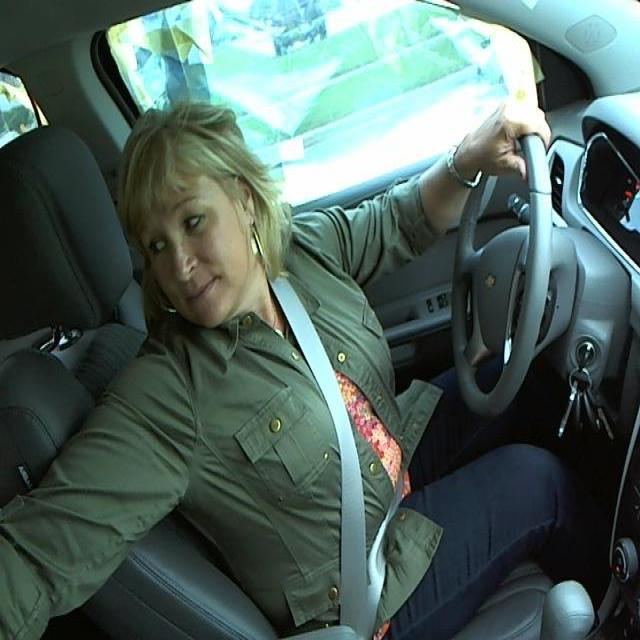seatbelt: (269, 298, 410, 610)
